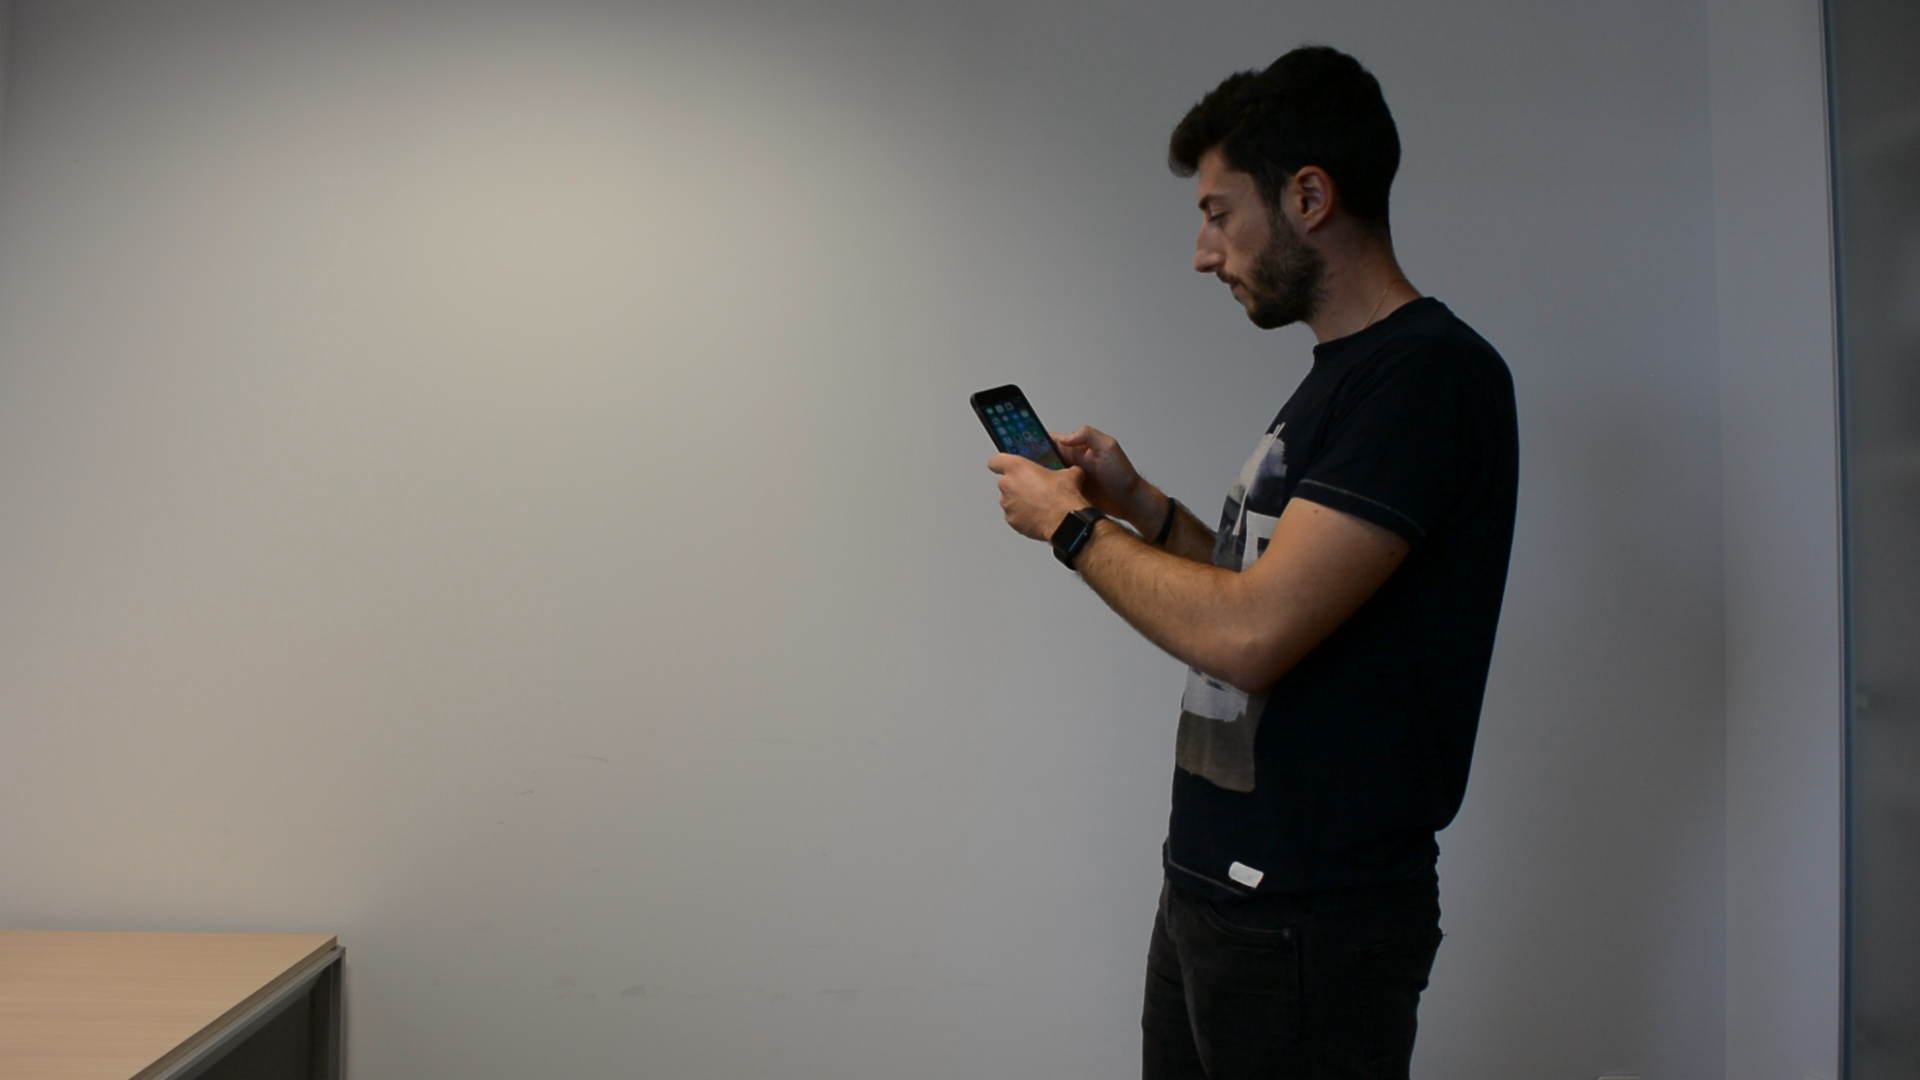smartphone: (968, 382, 1073, 495)
